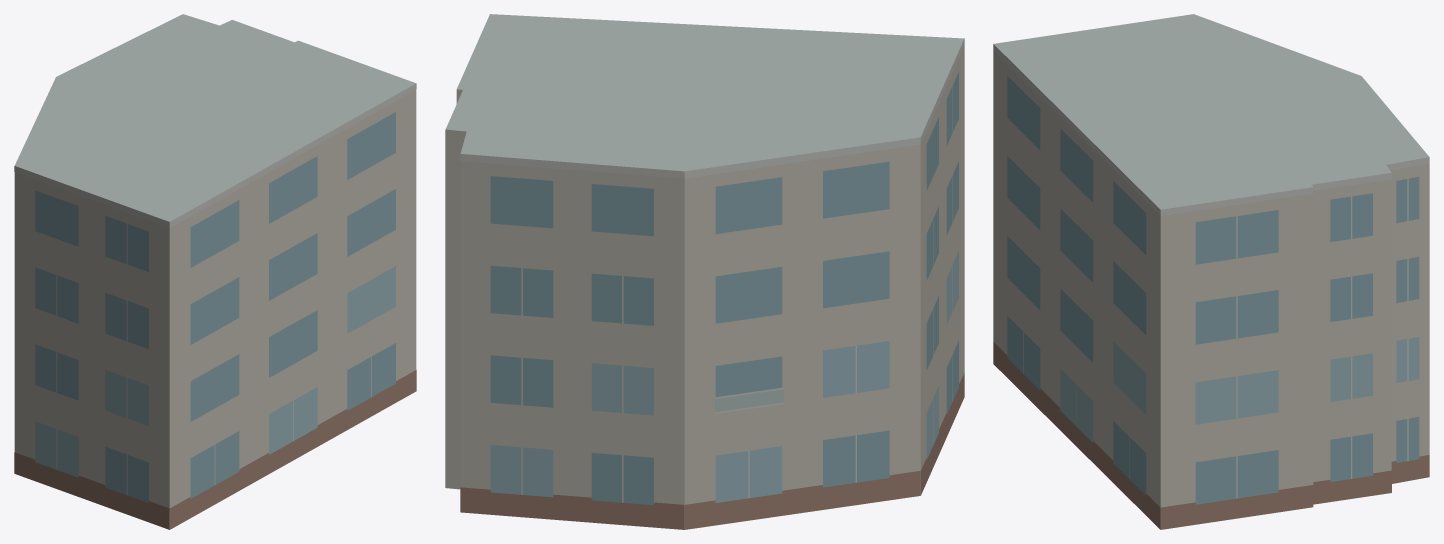
Rendered from survey-upis-32465787.glb.
3 renders of one model, left to right at view 1: azimuth 30°, elevation 25°; view 2: azimuth 150°, elevation 25°; view 3: azimuth 270°, elevation 25°, orthographic. The views are drawn at different scales.
Parts seen in each view (by area): view 1: survey-upis-32465787.tmp; view 2: survey-upis-32465787.tmp; view 3: survey-upis-32465787.tmp.
Part boxes in pixels (bbox=[...]): survey-upis-32465787.tmp: bbox=[14, 14, 416, 529]; survey-upis-32465787.tmp: bbox=[445, 14, 964, 529]; survey-upis-32465787.tmp: bbox=[993, 14, 1429, 529].
Size of the model in its own units: 16.01 by 12.2 by 15.07.
